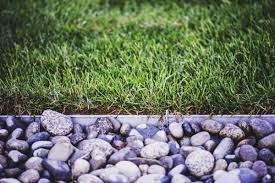grass: (1, 0, 272, 114)
rock: (0, 114, 273, 180)
